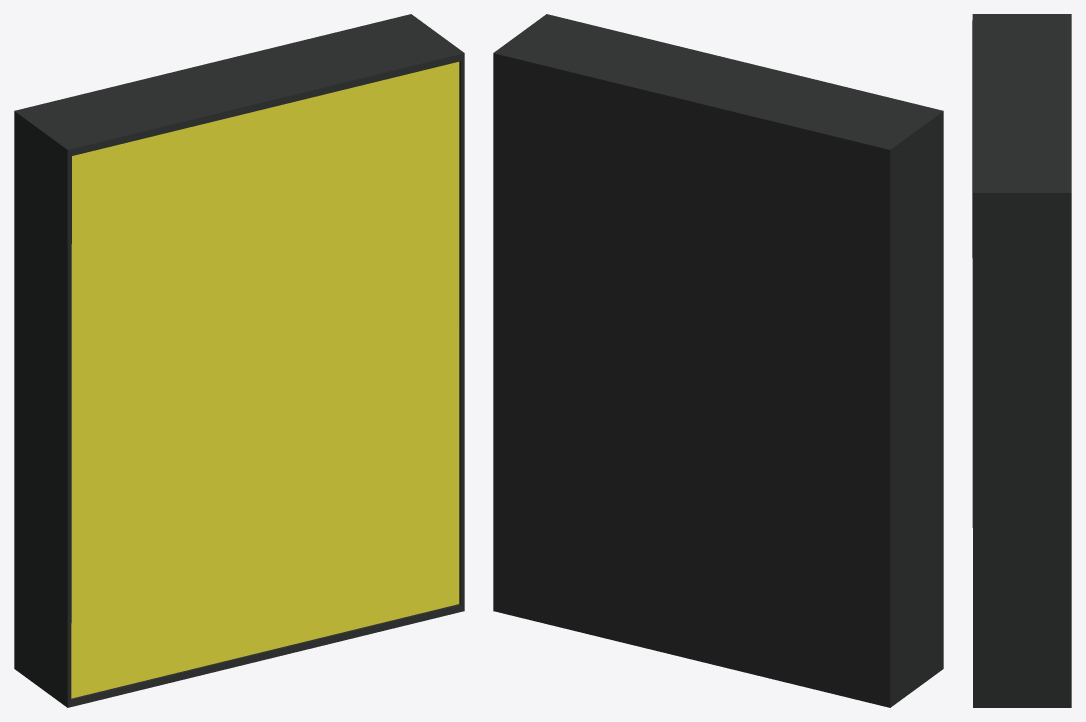
Rendered from Lesson_Menu_Background.fbx.
3 renders of one model, left to right at view 1: azimuth 30°, elevation 25°; view 2: azimuth 150°, elevation 25°; view 3: azimuth 270°, elevation 25°, orthographic. The views are drawn at different scales.
Visible parts, largest first — view 1: Indent, Background; view 2: Background; view 3: Background.
Part boxes in pixels (left/top/right/bottom): Indent: left=71, top=62, right=459, bottom=698; Background: left=14, top=14, right=464, bottom=707; Background: left=493, top=14, right=943, bottom=707; Background: left=972, top=14, right=1071, bottom=707.
Size of the model in its own units: 300 by 403 by 70.31.
